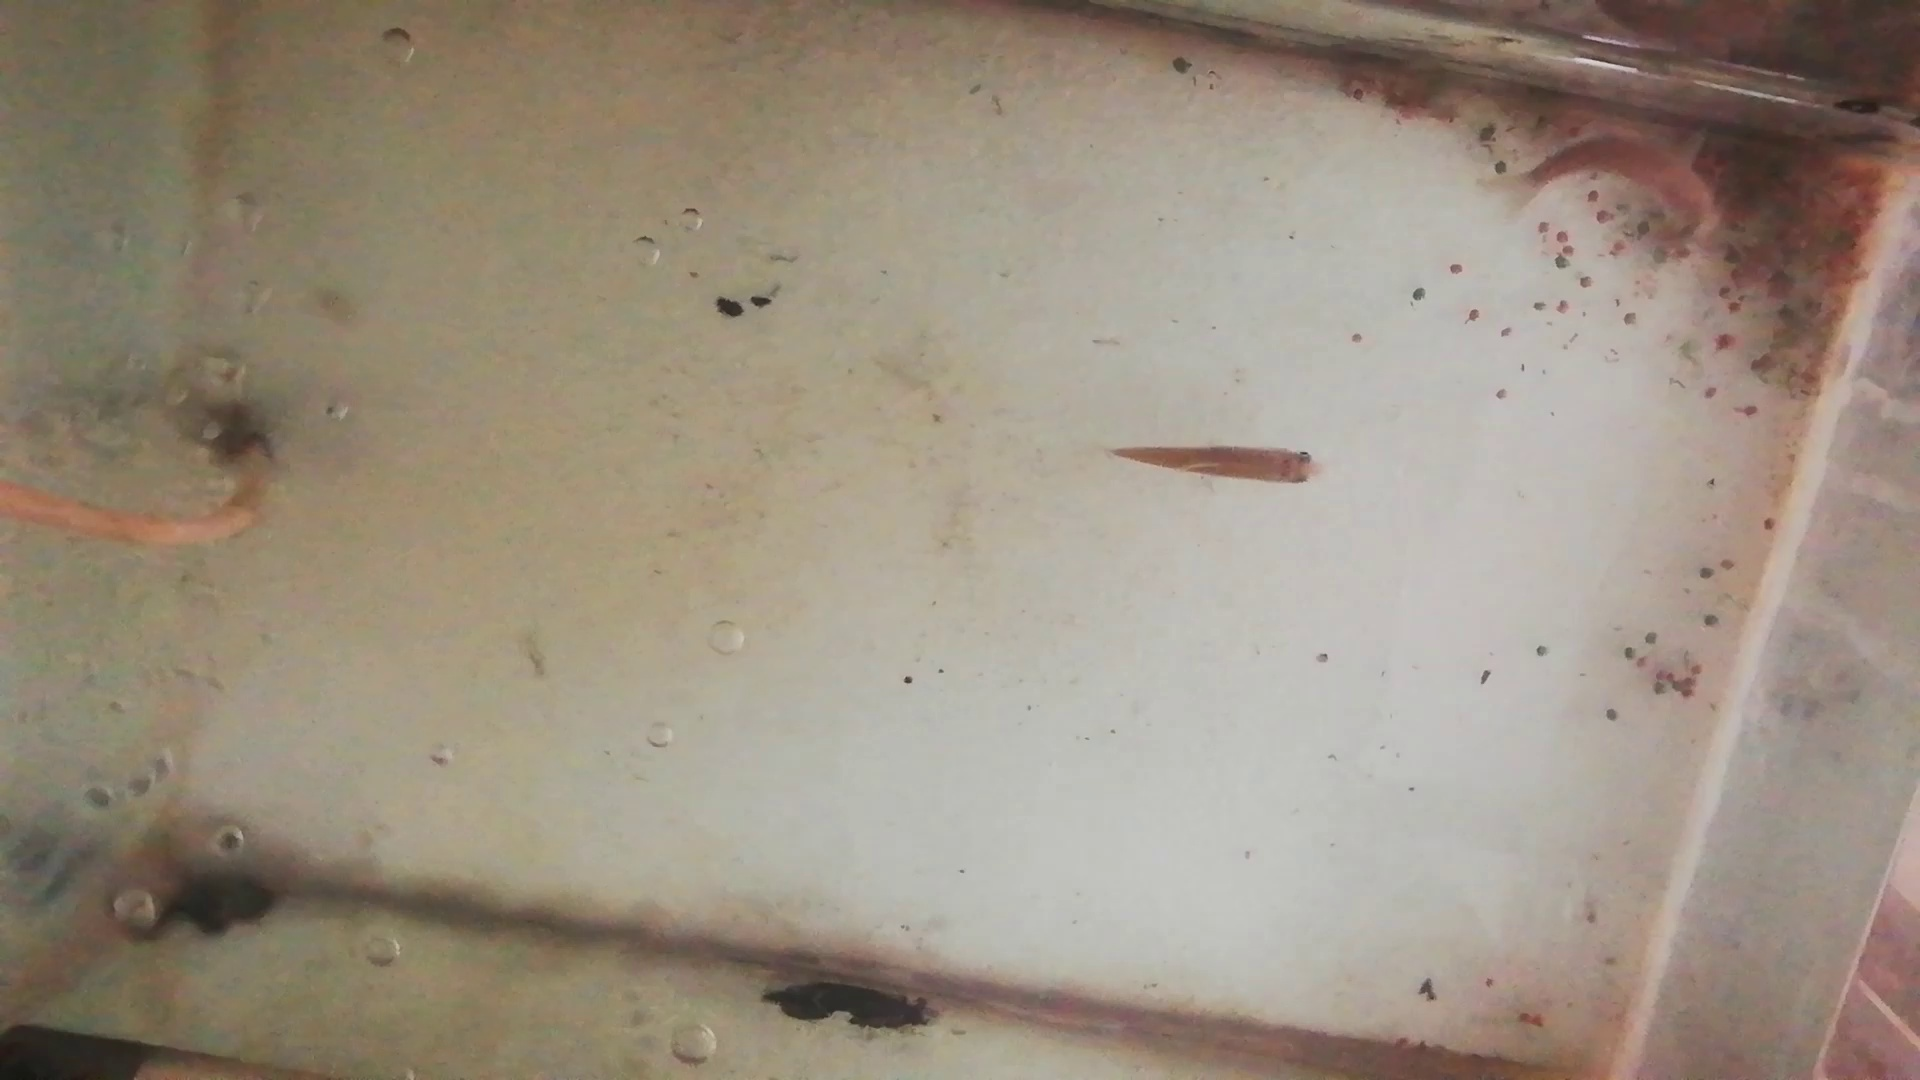fish: (1526, 133, 1725, 236), (1112, 439, 1325, 491)
